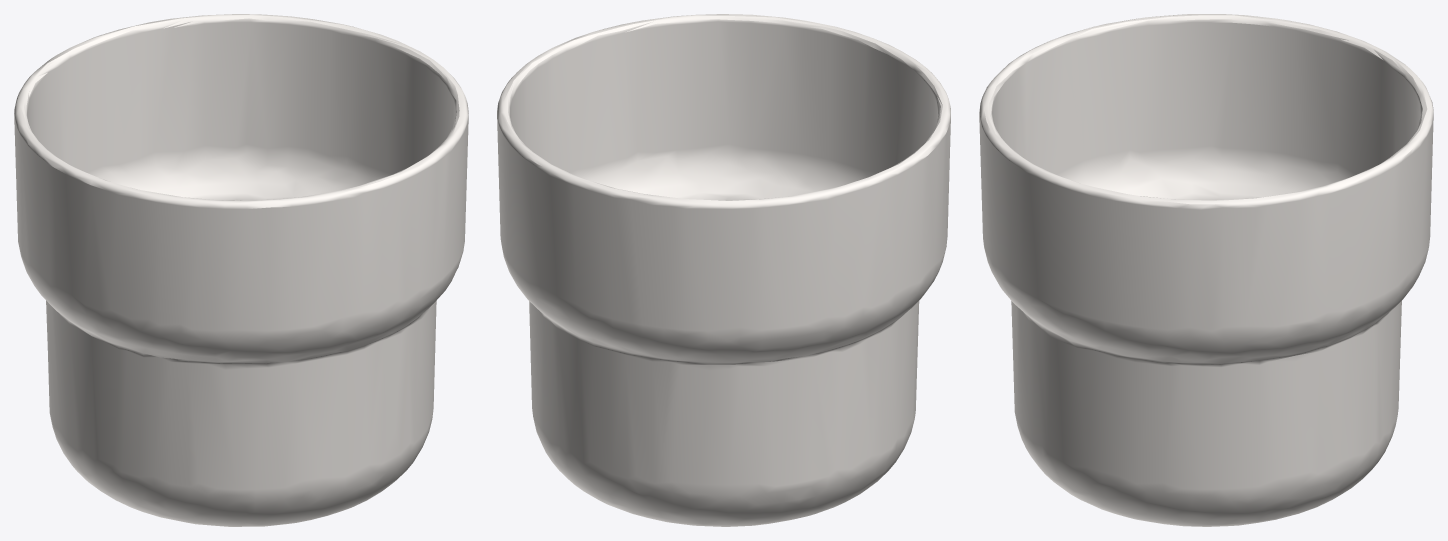
Rendered from 02 - FÖRENLIG - 花盆，室內戶外用 白色，12 公分 IKEA 線上購物.glb.
3 renders of one model, left to right at view 1: azimuth 30°, elevation 25°; view 2: azimuth 150°, elevation 25°; view 3: azimuth 270°, elevation 25°, orthographic.
Visible parts, largest first — view 1: ProcessedMeshNode; view 2: ProcessedMeshNode; view 3: ProcessedMeshNode.
Part boxes in pixels (x1,y1,x2,y2): ProcessedMeshNode: [14, 14, 468, 526]; ProcessedMeshNode: [497, 14, 950, 526]; ProcessedMeshNode: [979, 14, 1433, 526].
Bounding box in the file's own units: 0.1378 × 0.121 × 0.1378.
1 material, 1 textured.
